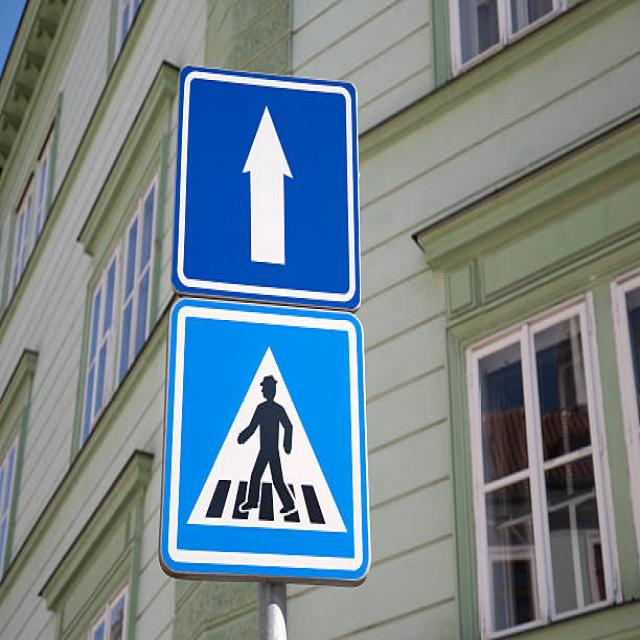crosswalk: (150, 287, 382, 597)
